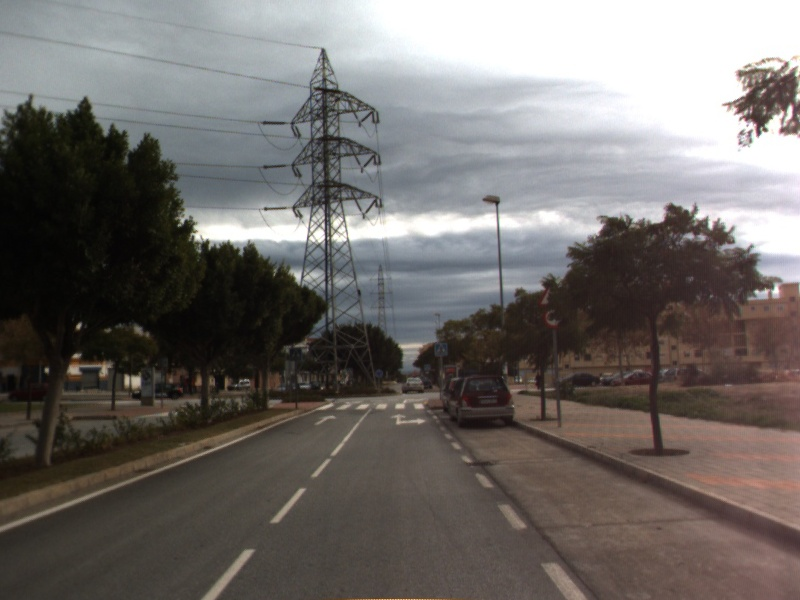STRAIGHT: (311, 413, 339, 427)
STRAIGHT_RIGHT: (388, 411, 428, 427)
